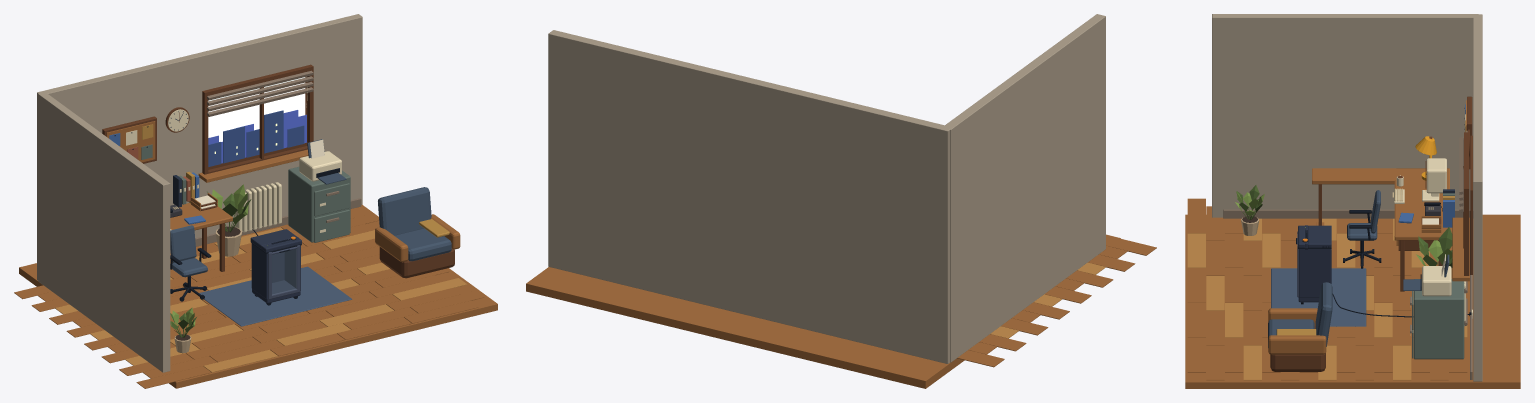
File: office.glb
3 views of the same model, side by side, from view 1: azimuth 30°, elevation 25°; view 2: azimuth 150°, elevation 25°; view 3: azimuth 270°, elevation 25° (orthographic). The views are drawn at different scales.
Parts seen in each view (by area): view 1: Room_wall.008, Room_wood.008, Room_woodlight.008, Room_wooddark.008, Room_fabric.008, Room_metal.008, Room_rug.008, Room_cream.008, Room_trim.008, Room_skyline.008, Shredder_charcoal.008, Room_DuskSky.008 (+8 smaller); view 2: Room_wall.008, Room_wood.008, Room_woodlight.008; view 3: Room_wall.008, Room_wood.008, Room_woodlight.008, Room_metal.008, Room_rug.008, Room_wooddark.008, Room_trim.008, Room_fabric.008, Shredder_charcoal.008, Room_cream.008, Monitor_cream.008, Room_black.008 (+5 smaller).
Boxes of the visible parts, x1=… form: Room_wall.008: x1=37, y1=14, x2=362, y2=372; Room_wood.008: x1=14, y1=121, x2=497, y2=388; Room_woodlight.008: x1=55, y1=227, x2=467, y2=372; Room_wooddark.008: x1=102, y1=64, x2=454, y2=278; Room_fabric.008: x1=170, y1=139, x2=451, y2=277; Room_metal.008: x1=178, y1=166, x2=350, y2=242; Room_rug.008: x1=199, y1=266, x2=352, y2=326; Room_cream.008: x1=168, y1=76, x2=341, y2=232; Room_trim.008: x1=170, y1=70, x2=361, y2=252; Room_skyline.008: x1=208, y1=110, x2=304, y2=166; Shredder_charcoal.008: x1=250, y1=229, x2=301, y2=303; Room_DuskSky.008: x1=208, y1=77, x2=305, y2=141; Room_wall.008: x1=548, y1=14, x2=1105, y2=363; Room_wood.008: x1=526, y1=234, x2=1156, y2=388; Room_woodlight.008: x1=990, y1=262, x2=1105, y2=338; Room_wall.008: x1=1212, y1=14, x2=1482, y2=381; Room_wood.008: x1=1185, y1=100, x2=1520, y2=388; Room_woodlight.008: x1=1187, y1=218, x2=1467, y2=380; Room_metal.008: x1=1412, y1=193, x2=1464, y2=359; Room_rug.008: x1=1271, y1=268, x2=1366, y2=326; Room_wooddark.008: x1=1270, y1=96, x2=1472, y2=371; Room_trim.008: x1=1223, y1=137, x2=1473, y2=379; Room_fabric.008: x1=1268, y1=190, x2=1449, y2=347; Shredder_charcoal.008: x1=1298, y1=225, x2=1331, y2=302; Room_cream.008: x1=1394, y1=131, x2=1472, y2=335; Monitor_cream.008: x1=1422, y1=158, x2=1446, y2=201; Room_black.008: x1=1332, y1=108, x2=1471, y2=317.
Size of the model in its own units: 5.72 by 3.01 by 4.4.
